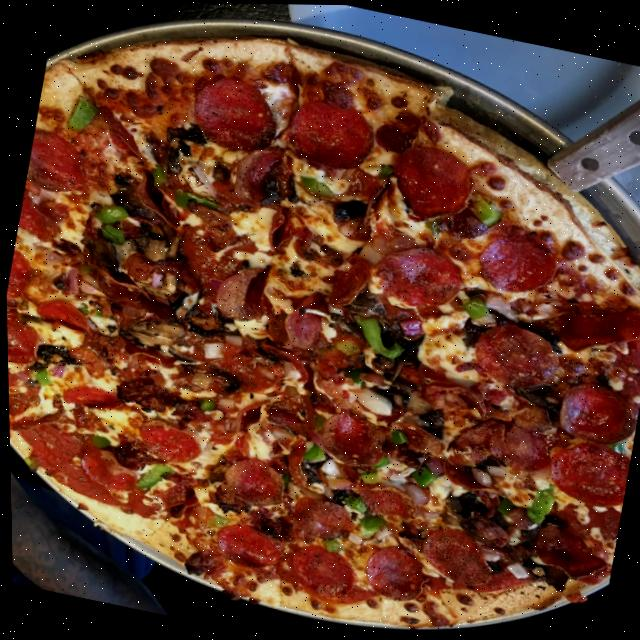pepperoni: (186, 70, 283, 156), (383, 139, 477, 226), (363, 236, 466, 313), (283, 95, 378, 174), (466, 315, 562, 393), (541, 433, 631, 510), (547, 290, 640, 361), (552, 374, 640, 449), (471, 226, 559, 298), (208, 451, 286, 522), (414, 521, 495, 587), (311, 403, 387, 469), (282, 540, 356, 601), (357, 541, 426, 603), (208, 517, 283, 572), (228, 141, 284, 208), (132, 416, 202, 467), (285, 492, 354, 542), (14, 187, 71, 245), (74, 444, 138, 493), (351, 476, 416, 520), (5, 308, 40, 365), (4, 249, 34, 303)
pizza: (0, 0, 640, 640)
